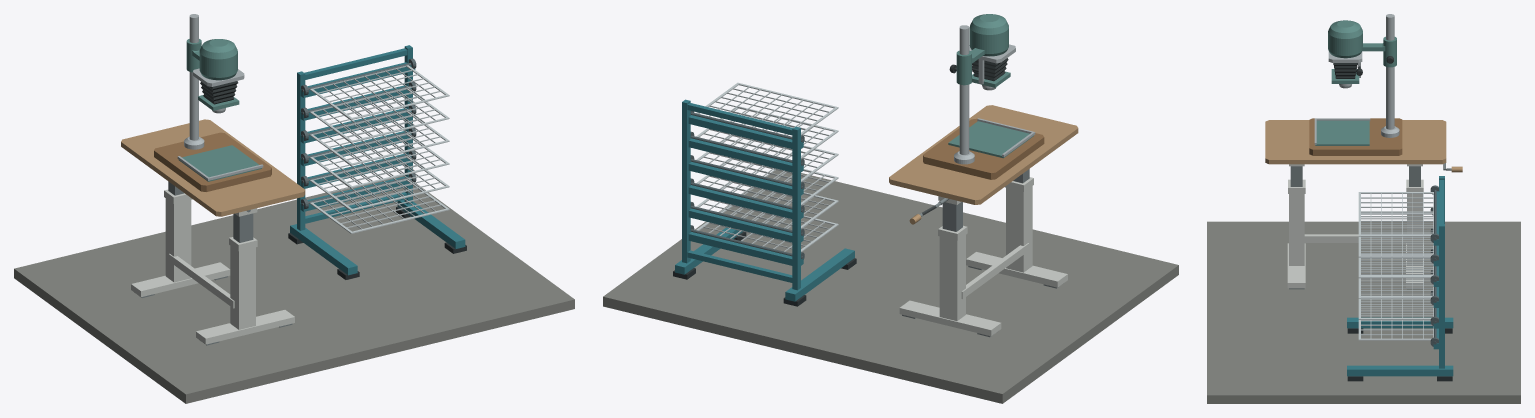
3 views of the same model, side by side, from view 1: azimuth 30°, elevation 25°; view 2: azimuth 150°, elevation 25°; view 3: azimuth 270°, elevation 25° (orthographic). The views are drawn at different scales.
Visible parts, largest first — view 1: SceneOnlyEnlargementLayoutFloor, WholeLevelWritingTop, WholeBroadGroundBaseboard, Tray_06_WeldedOpenGrid, WholeOpenUpperOuterColumn_-1, Tray_02_WeldedOpenGrid, Tray_03_WeldedOpenGrid, Tray_01_WeldedOpenGrid, Tray_04_WeldedOpenGrid, Tray_05_WeldedOpenGrid, WholeOpenUpperOuterColumn_1, WholeBlankReceivingEaselPlate (+19 smaller); view 2: SceneOnlyEnlargementLayoutFloor, WholeLevelWritingTop, WholeBroadGroundBaseboard, WholeOpenUpperOuterColumn_1, WholeOpenUpperOuterColumn_-1, Tray_06_WeldedOpenGrid, WholeBlankReceivingEaselPlate, WholeBlindInteriorLampHouse, RearSpine_Left, WholeLongTGroundFoot_1, RearSpine_Right, WholeRearFootAndUprightColumn (+19 smaller); view 3: SceneOnlyEnlargementLayoutFloor, WholeLevelWritingTop, Tray_06_WeldedOpenGrid, WholeBroadGroundBaseboard, Tray_01_WeldedOpenGrid, Tray_04_WeldedOpenGrid, Tray_05_WeldedOpenGrid, Tray_03_WeldedOpenGrid, Tray_02_WeldedOpenGrid, WholeBlankReceivingEaselPlate, BaseSkid_Right, WholeBlindInteriorLampHouse (+10 smaller).
Boxes of the visible parts, x1,y1,x2,y2 form: SceneOnlyEnlargementLayoutFloor: [14, 176, 574, 403]; WholeLevelWritingTop: [121, 119, 305, 216]; WholeBroadGroundBaseboard: [154, 132, 271, 191]; Tray_06_WeldedOpenGrid: [310, 65, 449, 120]; WholeOpenUpperOuterColumn_-1: [230, 246, 255, 329]; Tray_02_WeldedOpenGrid: [310, 157, 449, 211]; Tray_03_WeldedOpenGrid: [310, 134, 449, 188]; Tray_01_WeldedOpenGrid: [310, 180, 449, 233]; Tray_04_WeldedOpenGrid: [310, 111, 449, 165]; Tray_05_WeldedOpenGrid: [310, 88, 449, 142]; WholeOpenUpperOuterColumn_1: [165, 198, 191, 282]; WholeBlankReceivingEaselPlate: [179, 145, 261, 181]; SceneOnlyEnlargementLayoutFloor: [603, 170, 1178, 403]; WholeLevelWritingTop: [889, 105, 1078, 204]; WholeBroadGroundBaseboard: [923, 118, 1044, 179]; WholeOpenUpperOuterColumn_1: [939, 235, 965, 320]; WholeOpenUpperOuterColumn_-1: [1006, 186, 1032, 272]; Tray_06_WeldedOpenGrid: [696, 82, 838, 135]; WholeBlankReceivingEaselPlate: [948, 121, 1033, 158]; WholeBlindInteriorLampHouse: [969, 14, 1008, 56]; RearSpine_Left: [792, 126, 800, 290]; WholeLongTGroundFoot_1: [899, 300, 1001, 336]; RearSpine_Right: [682, 99, 690, 263]; WholeRearFootAndUprightColumn: [954, 25, 974, 164]; SceneOnlyEnlargementLayoutFloor: [1207, 221, 1520, 403]; WholeLevelWritingTop: [1265, 120, 1446, 164]; Tray_06_WeldedOpenGrid: [1358, 192, 1433, 236]; WholeBroadGroundBaseboard: [1309, 118, 1402, 155]; Tray_01_WeldedOpenGrid: [1358, 296, 1433, 340]; Tray_04_WeldedOpenGrid: [1358, 233, 1433, 278]; Tray_05_WeldedOpenGrid: [1358, 212, 1433, 257]; Tray_03_WeldedOpenGrid: [1358, 254, 1433, 298]; Tray_02_WeldedOpenGrid: [1358, 275, 1433, 319]; WholeBlankReceivingEaselPlate: [1315, 120, 1369, 145]; BaseSkid_Right: [1347, 365, 1453, 376]; WholeBlindInteriorLampHouse: [1328, 20, 1362, 58].
Bounding box in the file's own units: 3.4 × 2.4 × 2.6.
